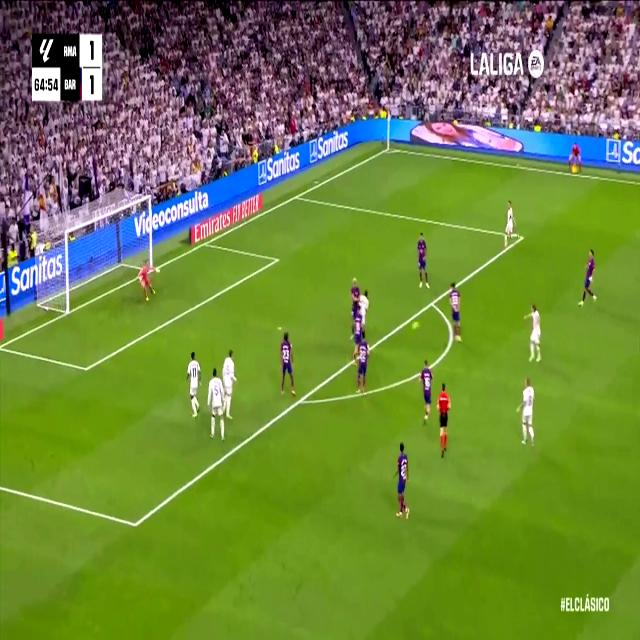bigarea_bottom_inner: (129, 508, 142, 540)
bigarea_top_inner: (515, 225, 526, 247)
bigarea_top_outter: (293, 189, 301, 203)
bottom_arc_area_intersection: (294, 387, 308, 412)
corner: (383, 142, 394, 155)
smallarea_bottom_inner: (81, 357, 91, 380)
smallarea_bottom_outter: (0, 336, 3, 356)
smallarea_top_inner: (273, 251, 281, 268)
top_arc_area_intersection: (428, 293, 437, 312)
